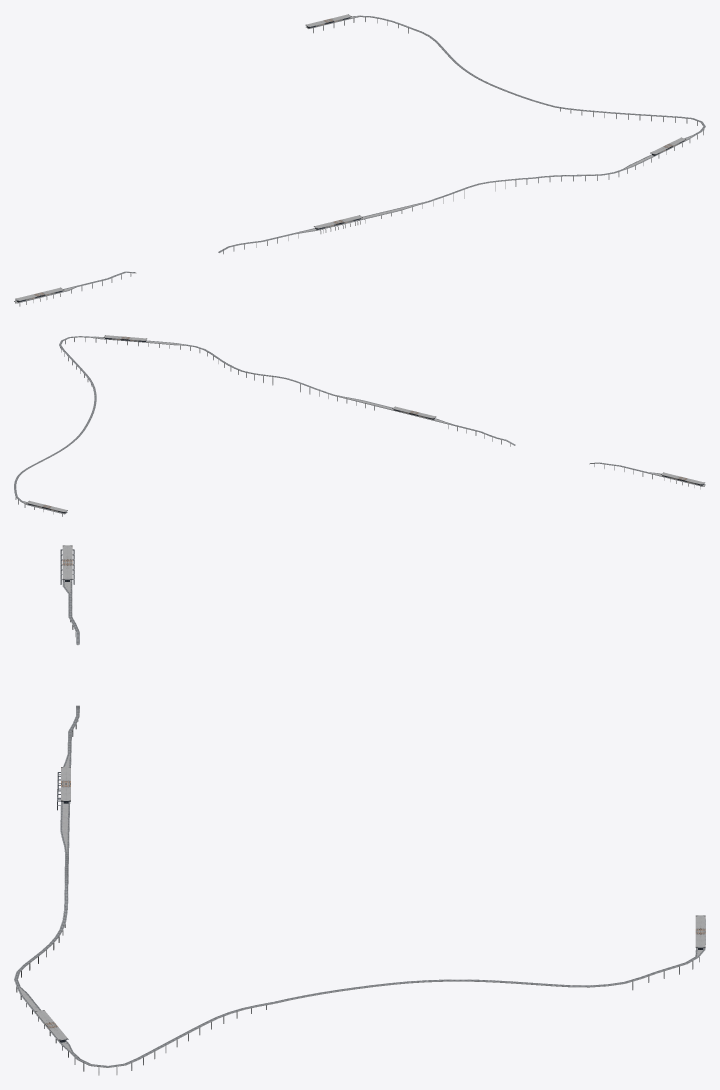
Rendered from SkyTrain.exact.glb.
The picture shows the model from 3 angles, top to bottom: view 1: azimuth 30°, elevation 25°; view 2: azimuth 150°, elevation 25°; view 3: azimuth 270°, elevation 25°; orthographic projection. The views are drawn at different scales.
Visible parts, largest first — view 1: SkyTrain; view 2: SkyTrain; view 3: SkyTrain.
Part boxes in pixels (x1,y1,x2,y2): SkyTrain: (14, 14, 705, 306); SkyTrain: (14, 335, 705, 516); SkyTrain: (14, 545, 705, 1075).
Bounding box in the file's own units: 2606 × 49.48 × 1466.
1 material, 1 textured.
